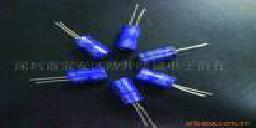Electrolytic-Capacitor: (136, 65, 225, 101), (49, 17, 115, 63), (109, 76, 154, 128), (22, 64, 110, 88), (118, 5, 146, 57), (139, 44, 221, 61)
